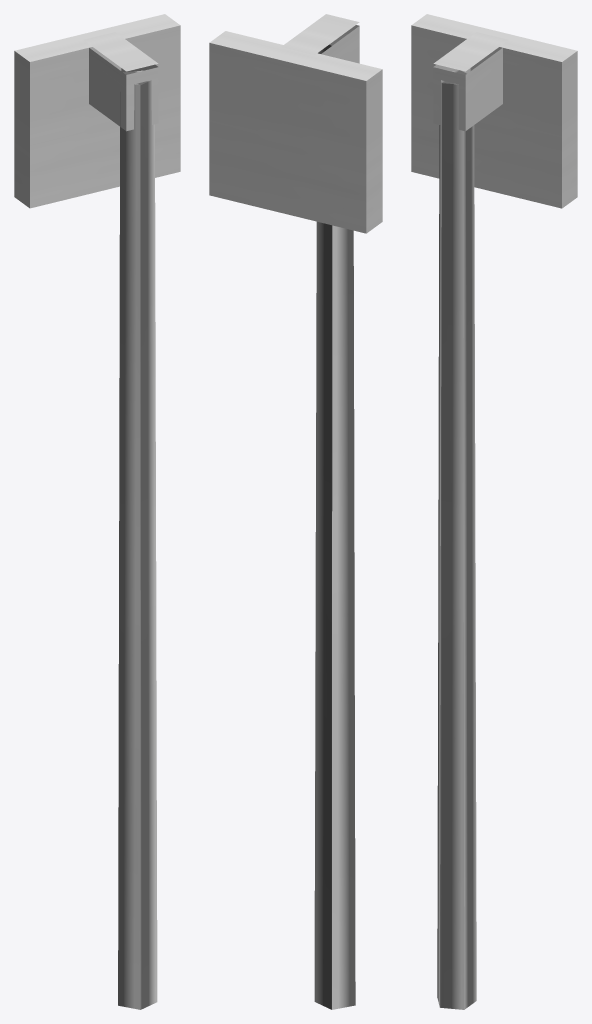
Rendered from tool_hoe.obj.
The picture shows the model from 3 angles, left to right: view 1: azimuth 30°, elevation 25°; view 2: azimuth 150°, elevation 25°; view 3: azimuth 330°, elevation 25°; orthographic projection. The views are drawn at different scales.
Visible parts, largest first — view 1: tool_hoe; view 2: tool_hoe; view 3: tool_hoe.
Part boxes in pixels (left/top/right/bottom): tool_hoe: left=14, top=14, right=180, bottom=1009; tool_hoe: left=209, top=14, right=382, bottom=1009; tool_hoe: left=411, top=14, right=577, bottom=1009.
Bounding box in the file's own units: 0.14 × 0.833 × 0.0912.
